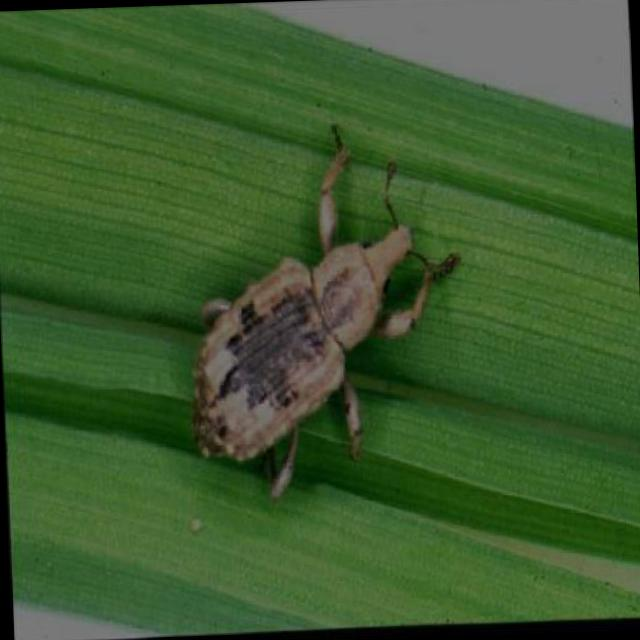rice-bug: (181, 181, 429, 502)
